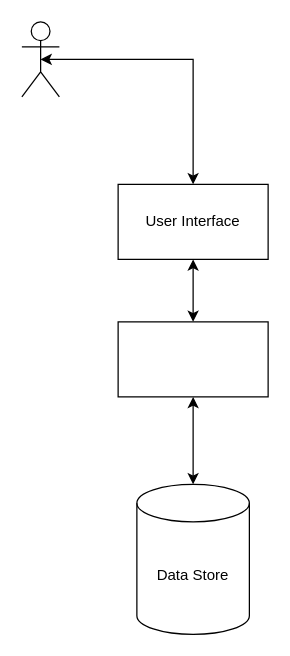
The diagram is 290 pixels wide and 656 high, and some of its shapes have lost their labels. Each missing label, with the centre of its shape:
Actor: point (40, 59)
Web Services Logic: point (192, 359)
